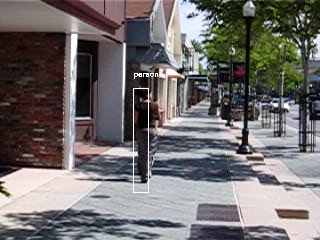person: (131, 89, 162, 184), (130, 89, 161, 184), (132, 89, 163, 184), (131, 88, 162, 183), (131, 90, 162, 185)
target_negative: (21, 156, 292, 209), (171, 15, 241, 180), (246, 21, 294, 236), (14, 227, 96, 239), (71, 201, 130, 207), (308, 56, 313, 82)
